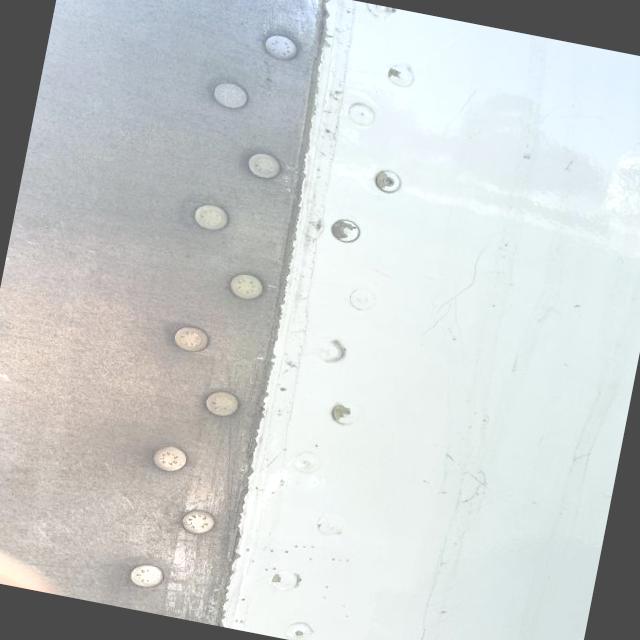crack: (406, 244, 499, 342), (448, 458, 506, 530)
